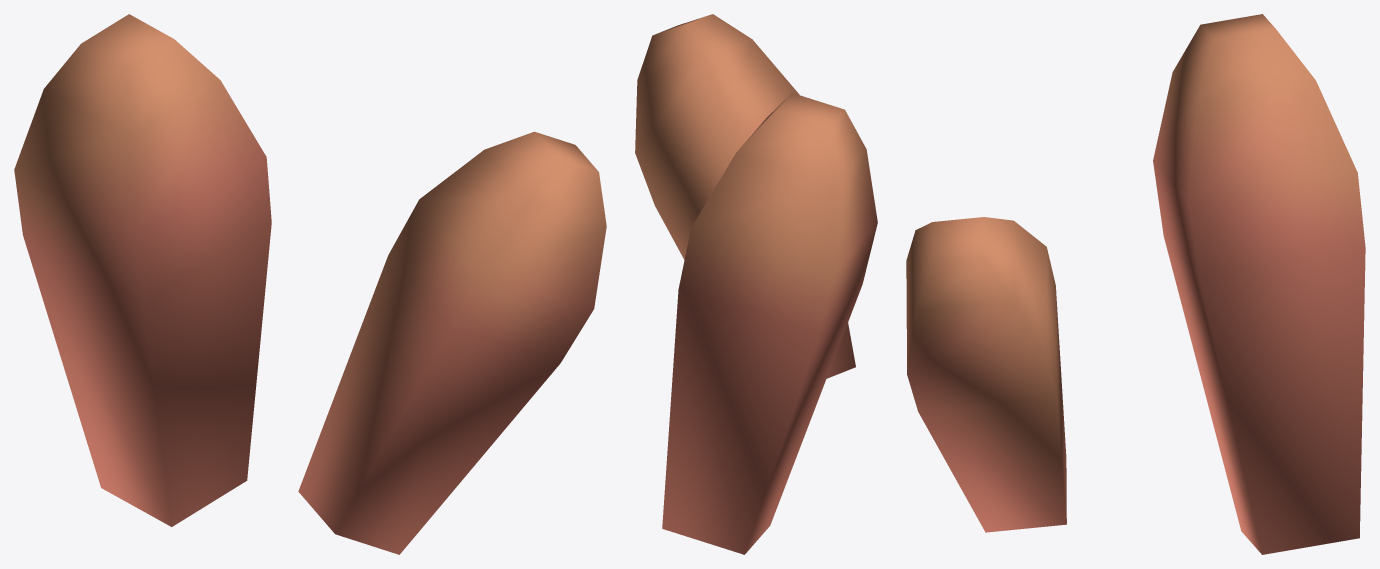
File: mdl_env_1_forest_grass_b01_v01.fbx
The picture shows the model from 3 angles, left to right: view 1: azimuth 30°, elevation 25°; view 2: azimuth 150°, elevation 25°; view 3: azimuth 270°, elevation 25°; orthographic projection. The views are drawn at different scales.
Parts seen in each view (by area): view 1: mdl_env_1_forest_grass_b01_v01; view 2: mdl_env_1_forest_grass_b01_v01; view 3: mdl_env_1_forest_grass_b01_v01.
Boxes of the visible parts, left/top/right/bottom form: mdl_env_1_forest_grass_b01_v01: left=14, top=14, right=606, bottom=554; mdl_env_1_forest_grass_b01_v01: left=635, top=14, right=877, bottom=554; mdl_env_1_forest_grass_b01_v01: left=906, top=14, right=1365, bottom=554.
Bounding box in the file's own units: 0.6667 × 0.8279 × 0.7025.
